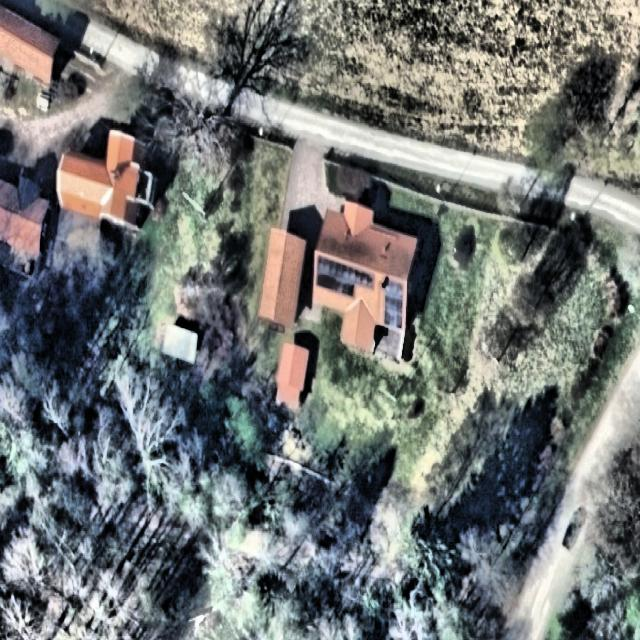roof_pv: (316, 256, 378, 306), (380, 270, 410, 332)
